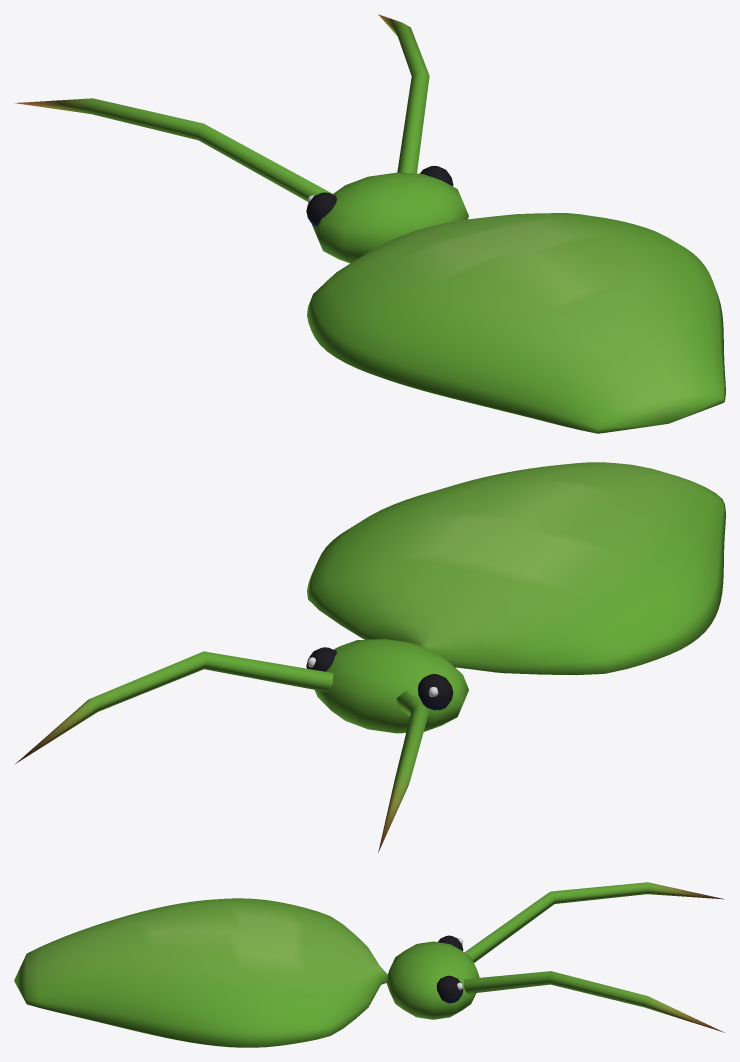
Rendered from Kamemushi.fbx.
The picture shows the model from 3 angles, top to bottom: view 1: azimuth 30°, elevation 25°; view 2: azimuth 150°, elevation 25°; view 3: azimuth 270°, elevation 25°; orthographic projection. The views are drawn at different scales.
Visible parts, largest first — view 1: Kamemushi; view 2: Kamemushi; view 3: Kamemushi.
Boxes of the visible parts, left/top/right/bottom form: Kamemushi: left=15, top=14, right=725, bottom=433; Kamemushi: left=15, top=462, right=725, bottom=852; Kamemushi: left=14, top=882, right=724, bottom=1047.
Bounding box in the file's own units: 0.4004 × 0.11 × 0.9.
